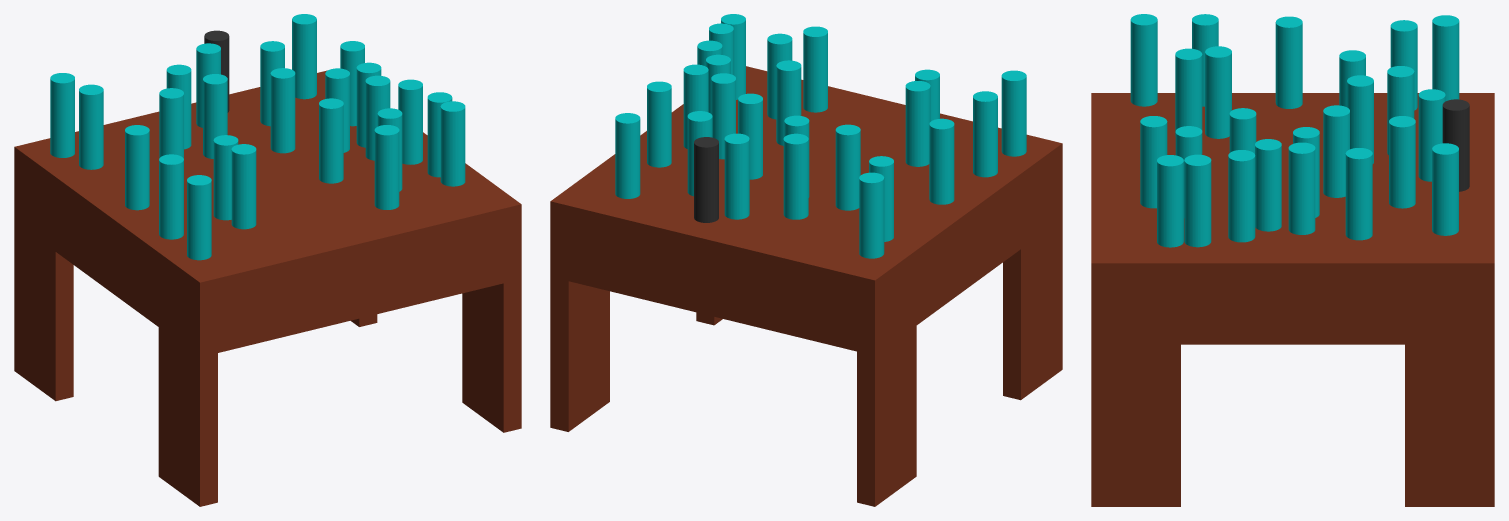
File: can_world_25_cans.dae
3 views of the same model, side by side, from view 1: azimuth 30°, elevation 25°; view 2: azimuth 150°, elevation 25°; view 3: azimuth 270°, elevation 25° (orthographic). The views are drawn at different scales.
Visible parts, largest first — view 1: base (×29); view 2: base (×28); view 3: base (×28).
Boxes of the visible parts, x1,y1,x2,y2 form: base (×29): (14,14,521,506); base (×28): (550,14,1062,506); base (×28): (1091,14,1494,506).
Size of the model in its own units: 0.9 by 0.9 by 0.811.
